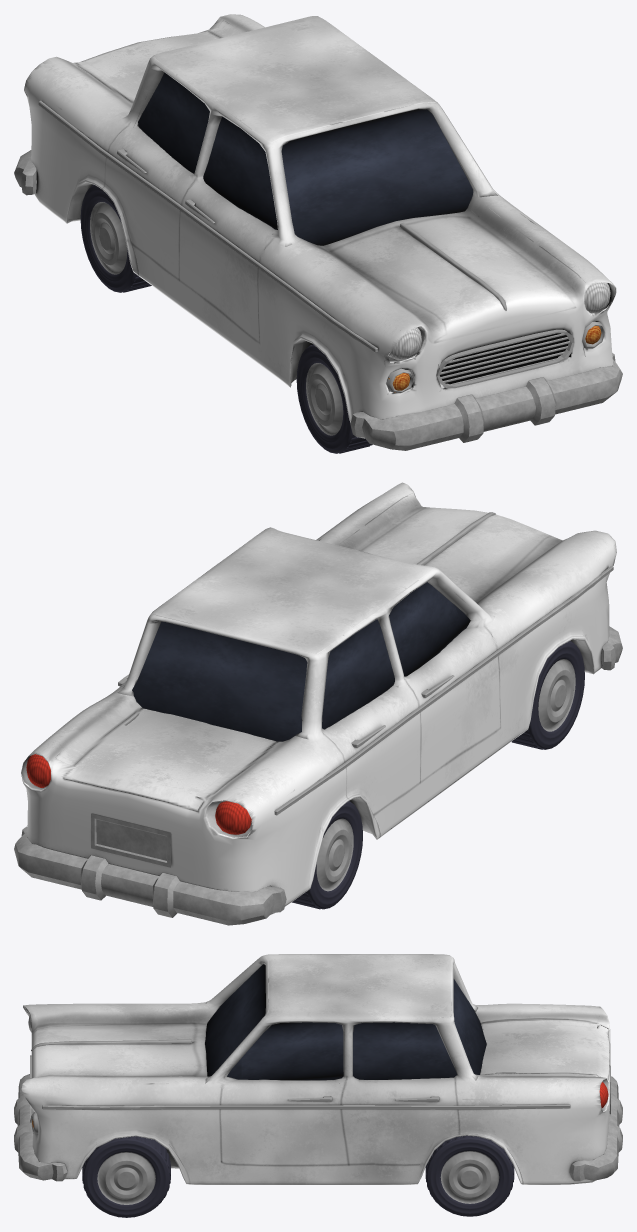
The model's file is car1.fbx.
3 renders of one model, top to bottom at view 1: azimuth 30°, elevation 25°; view 2: azimuth 150°, elevation 25°; view 3: azimuth 270°, elevation 25°, orthographic. The views are drawn at different scales.
Visible parts, largest first — view 1: Cube; view 2: Cube; view 3: Cube.
Boxes of the visible parts, <box> form: Cube: <box>14,14,622,453</box>; Cube: <box>14,482,622,925</box>; Cube: <box>14,954,622,1217</box>.
Size of the model in its own units: 8.74 by 7.58 by 22.51.
6 materials, 4 textured.
